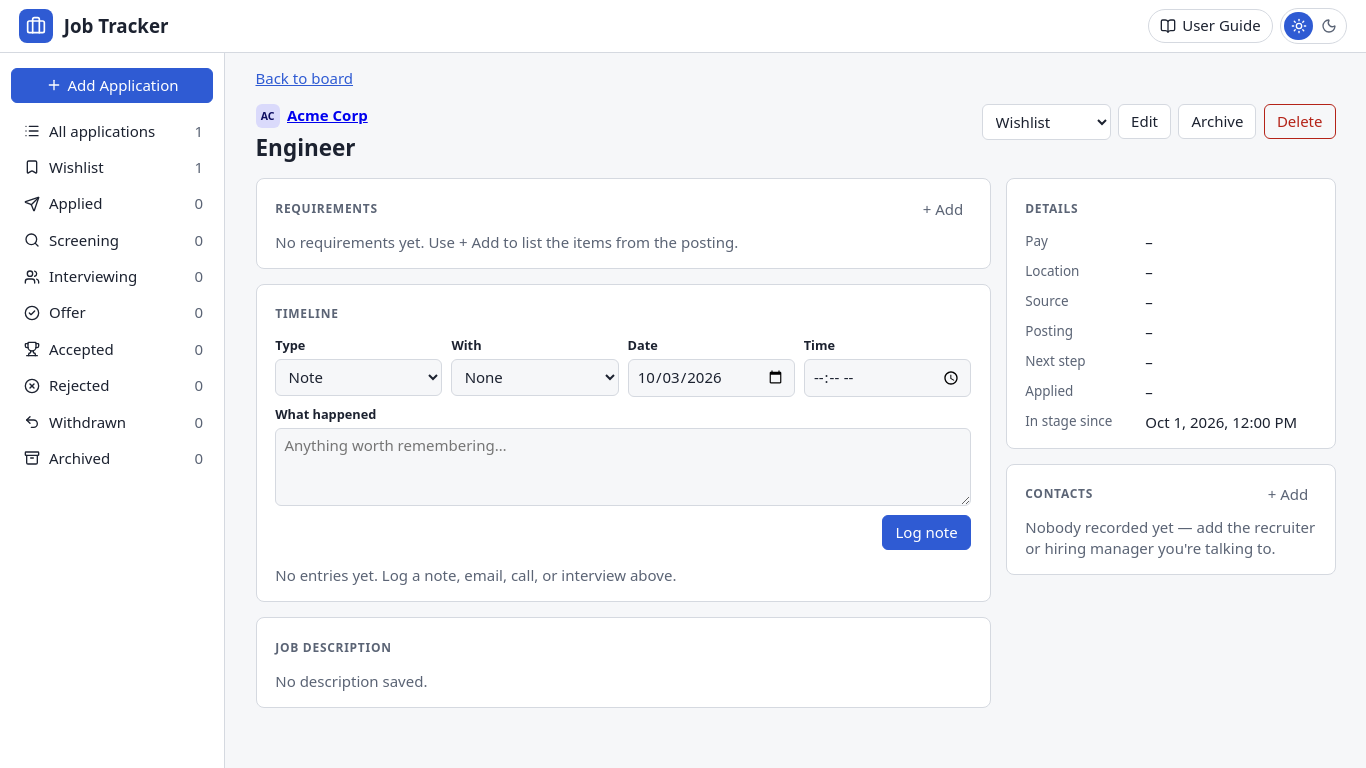
Scenario: the Website field in the application form (spec 017, AC-7) › shows the chosen company's website when the Company field names another, none for a new one, and the original's again when put back
Click the button "Edit" at (1145, 122), box x1=1118 y1=104 x2=1171 y2=139
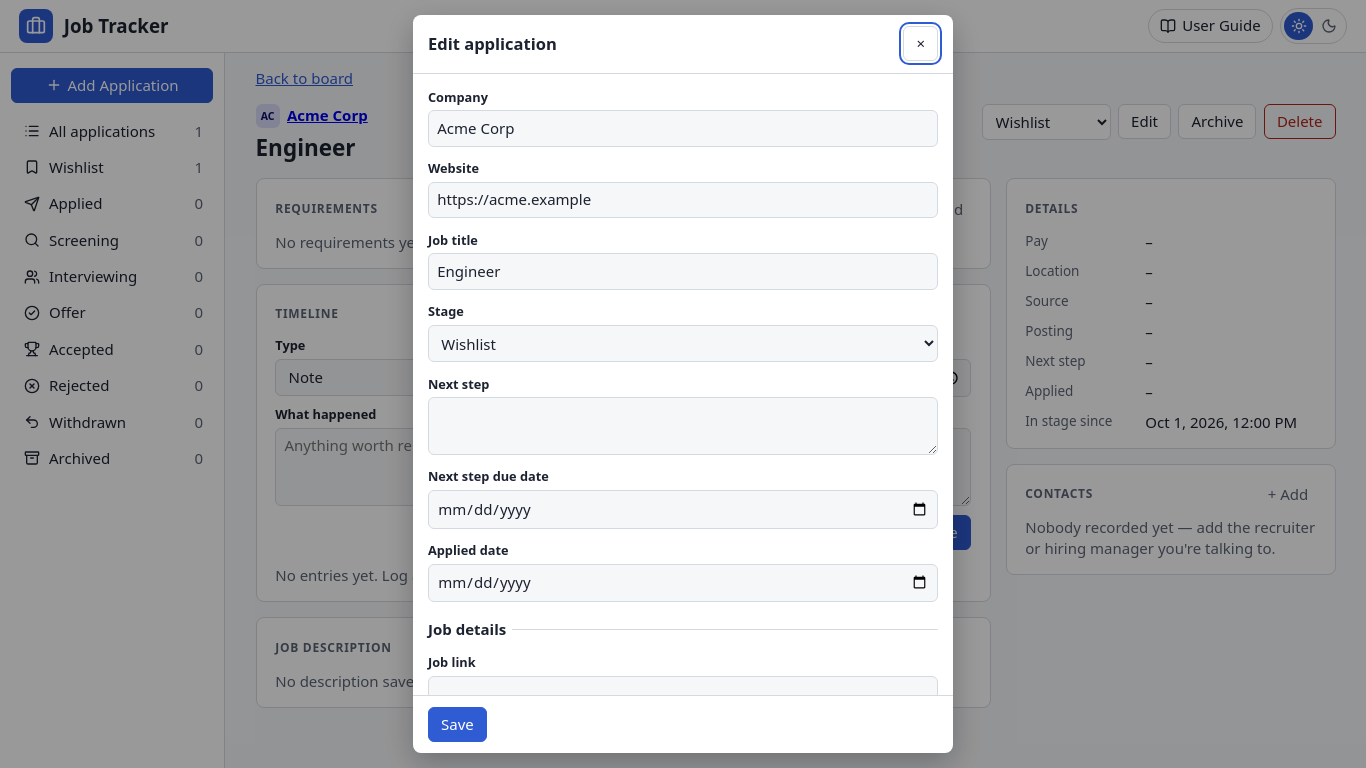
Replace the text in the field labelled "Company" with "globex" at (683, 128), box x1=428 y1=110 x2=938 y2=147
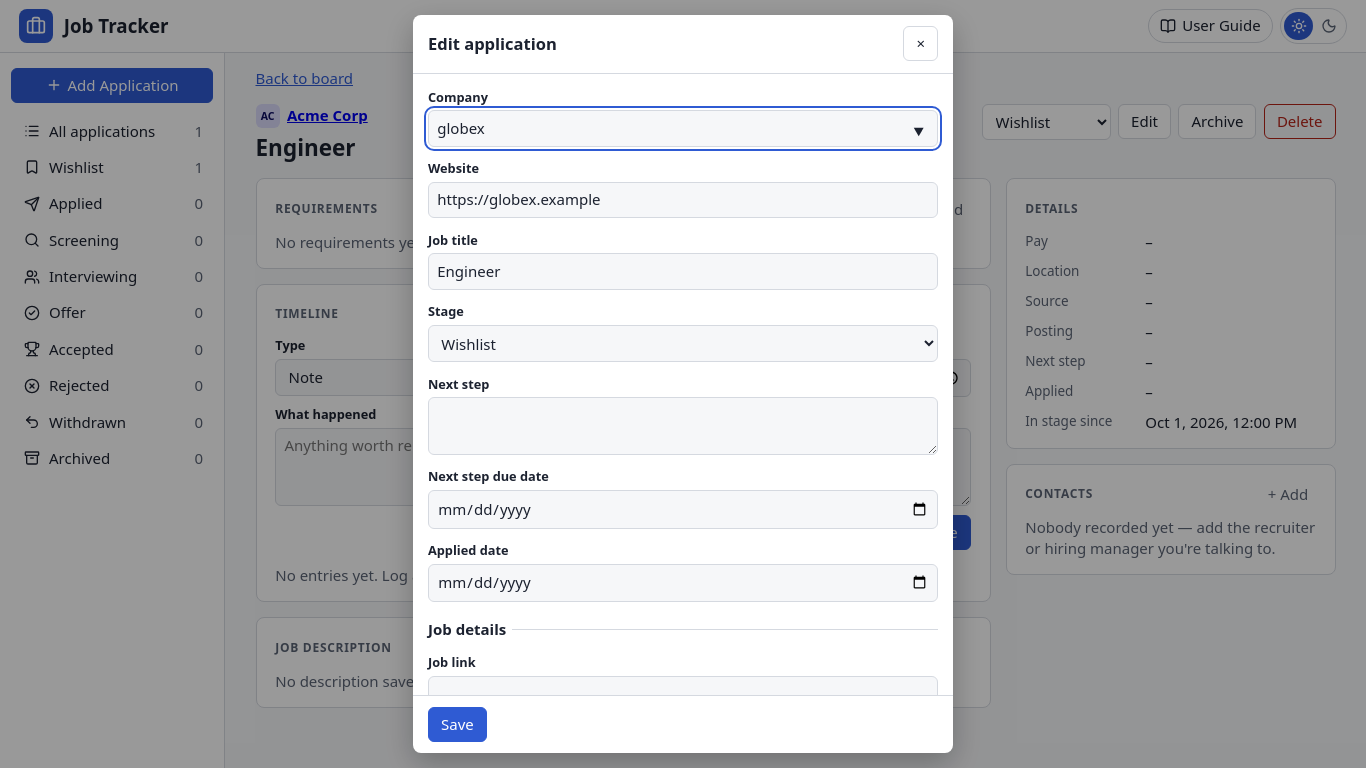
Now the field labelled "Website" holds "https://globex.example", box x1=428 y1=182 x2=938 y2=218
Type " Labs" into the field labelled "Company" at (683, 128), box x1=428 y1=110 x2=938 y2=147
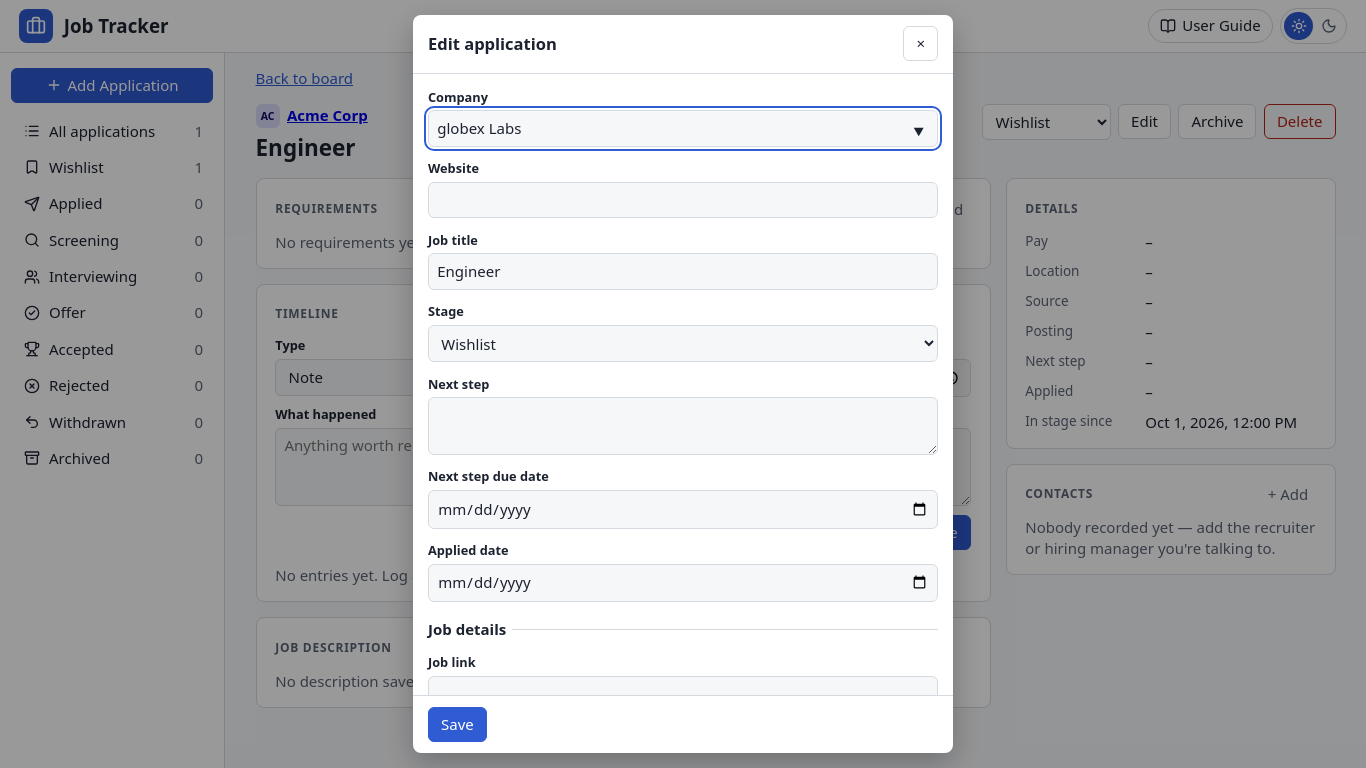
Now the field labelled "Website" is empty, box x1=428 y1=182 x2=938 y2=218
Replace the text in the field labelled "Company" with "Acme Corp" at (683, 128), box x1=428 y1=110 x2=938 y2=147
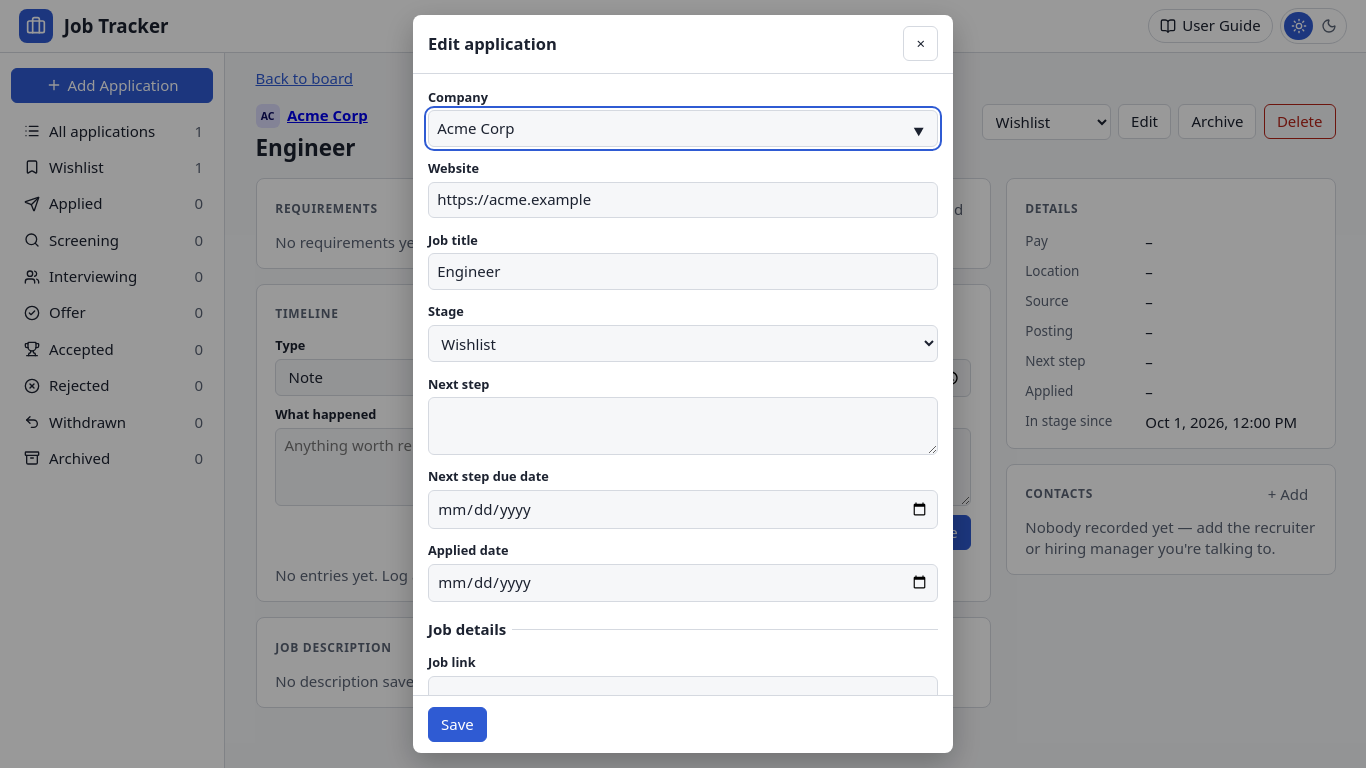
Now the field labelled "Website" holds "https://acme.example", box x1=428 y1=182 x2=938 y2=218
